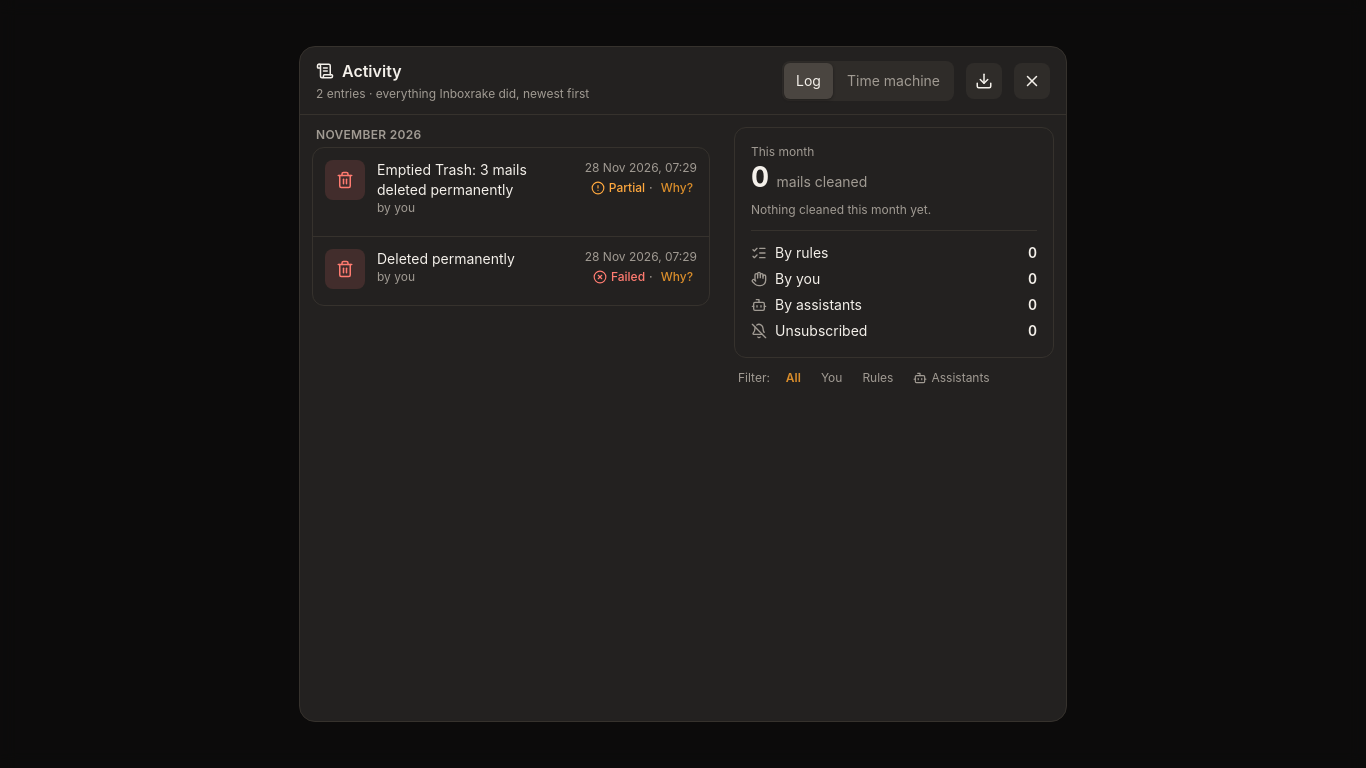
Test: a failed entry says Failed and its stored error opens behind Why?
This screenshot has width=1366, height=768.
expect the text "Partial" is shown: met, box 609,180 -> 645,195
expect the text "Failed" is shown: met, box 611,269 -> 645,284
Click the button "Why?" next to "Failed". click: [677, 277]
box: 657,269 -> 697,285
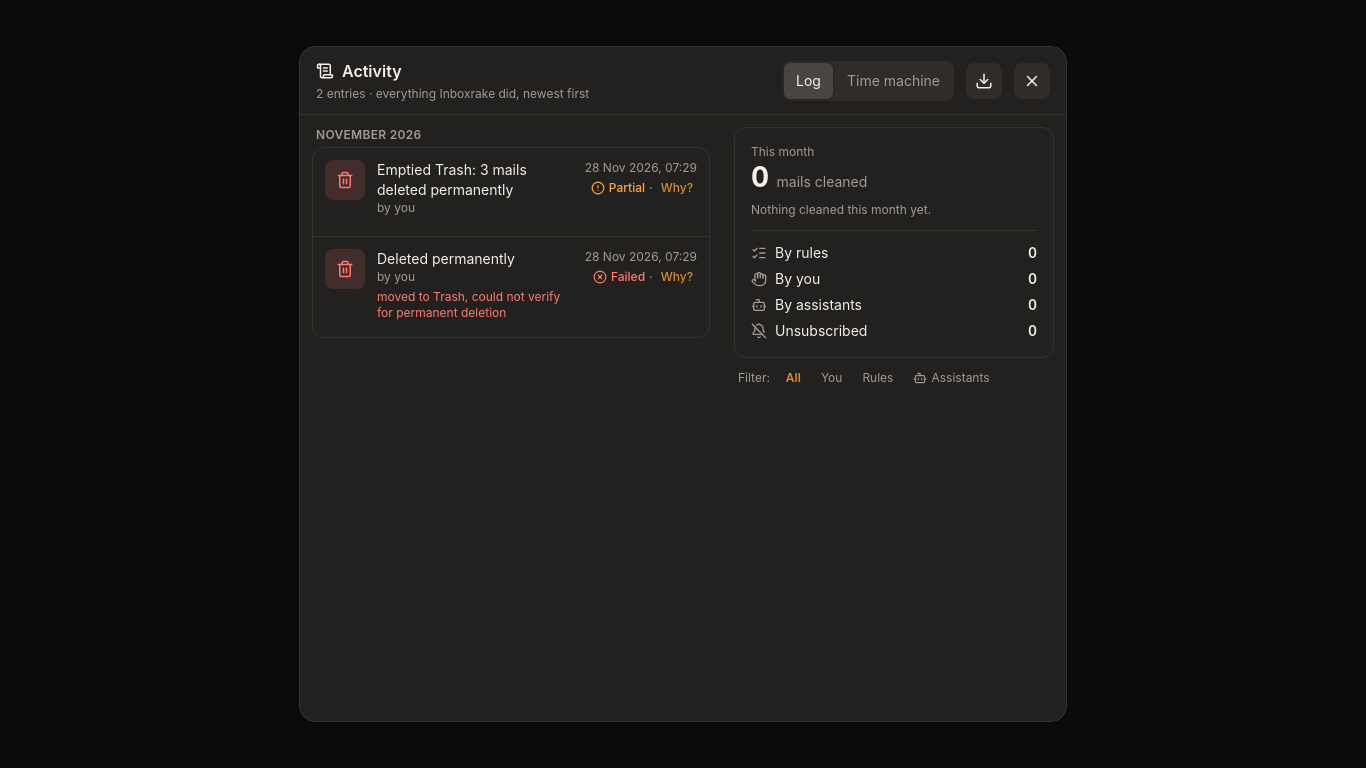
expect the text "moved to Trash, could not verify for permanent deletion" is shown: met, box 377,289 -> 573,321
a coded error is worded in the interface language
Click the button "Why?" next to "Partial". click: [677, 188]
box: 657,180 -> 697,196
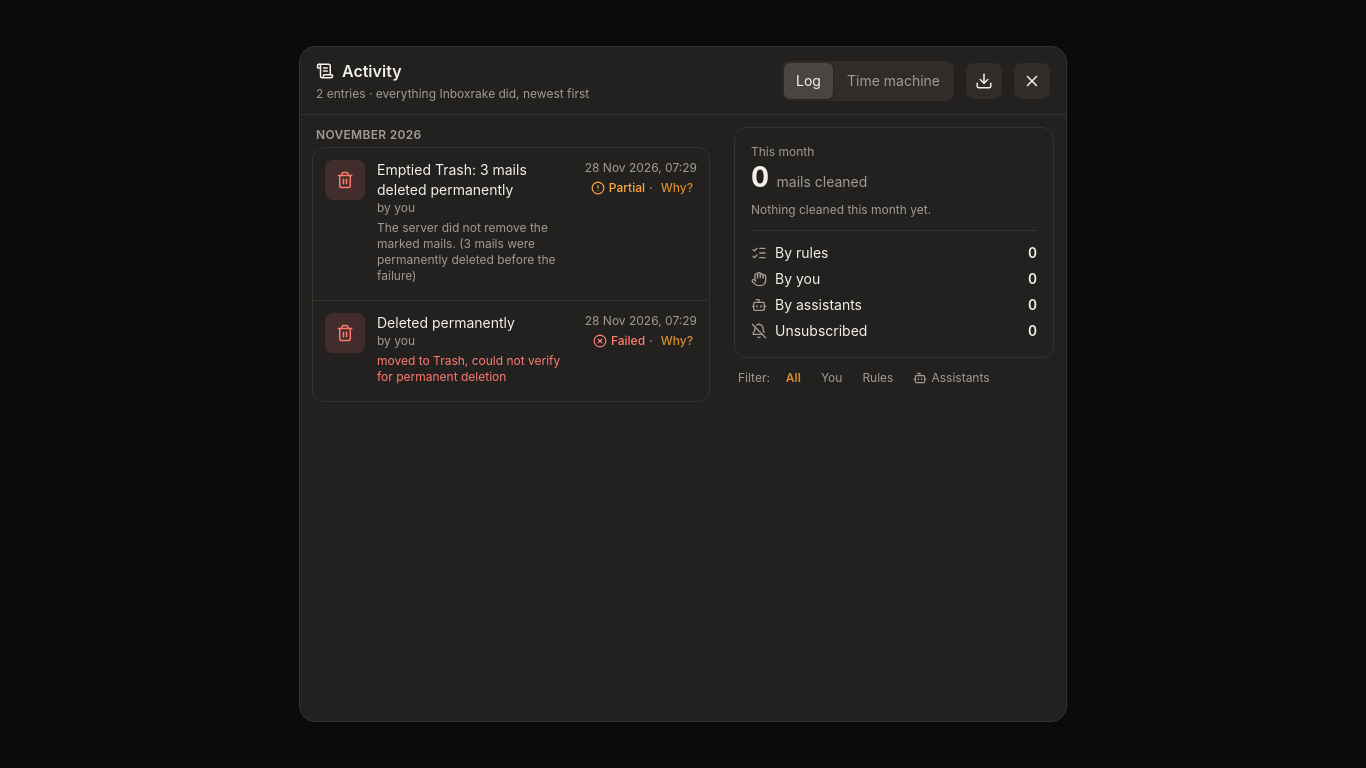
Click the button "Why?" next to "Failed". click: [677, 341]
box: 657,333 -> 697,349
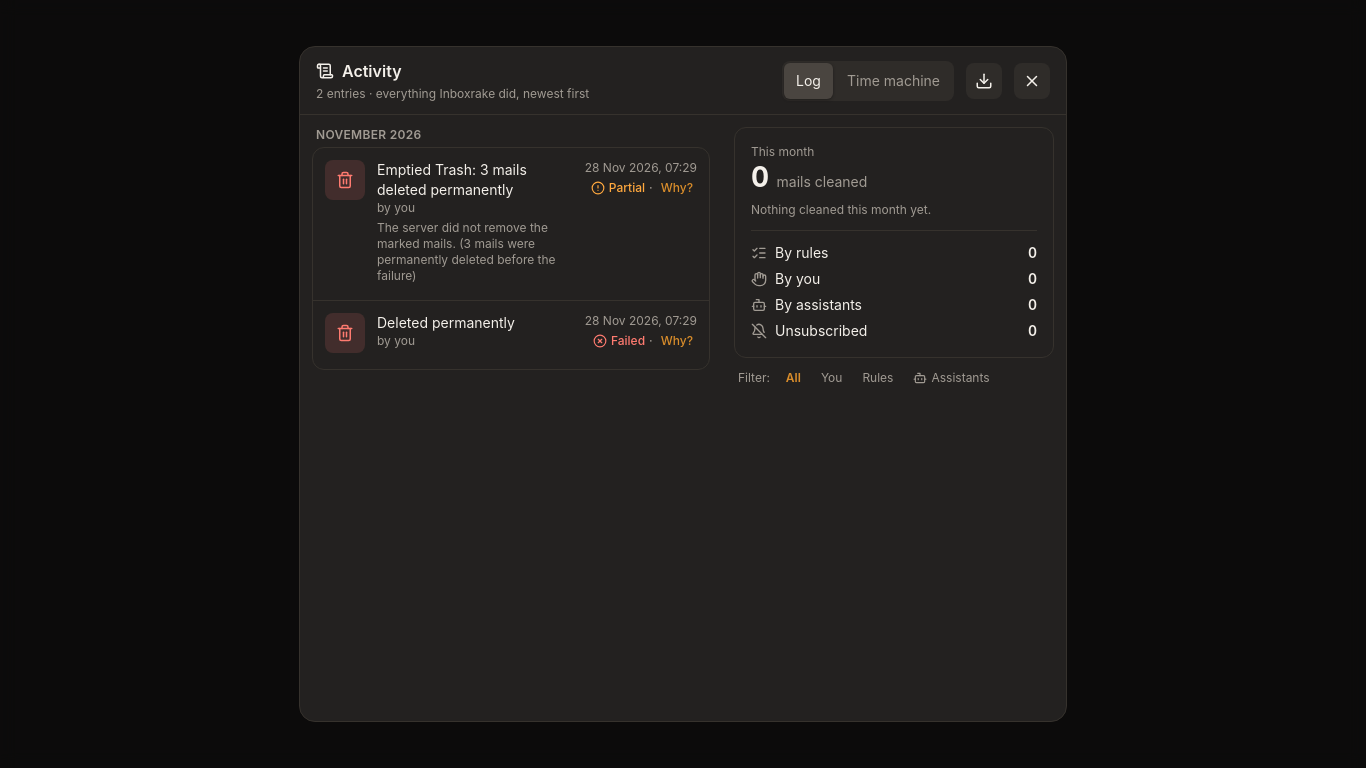
expect the text "could not verify" is gone: met
